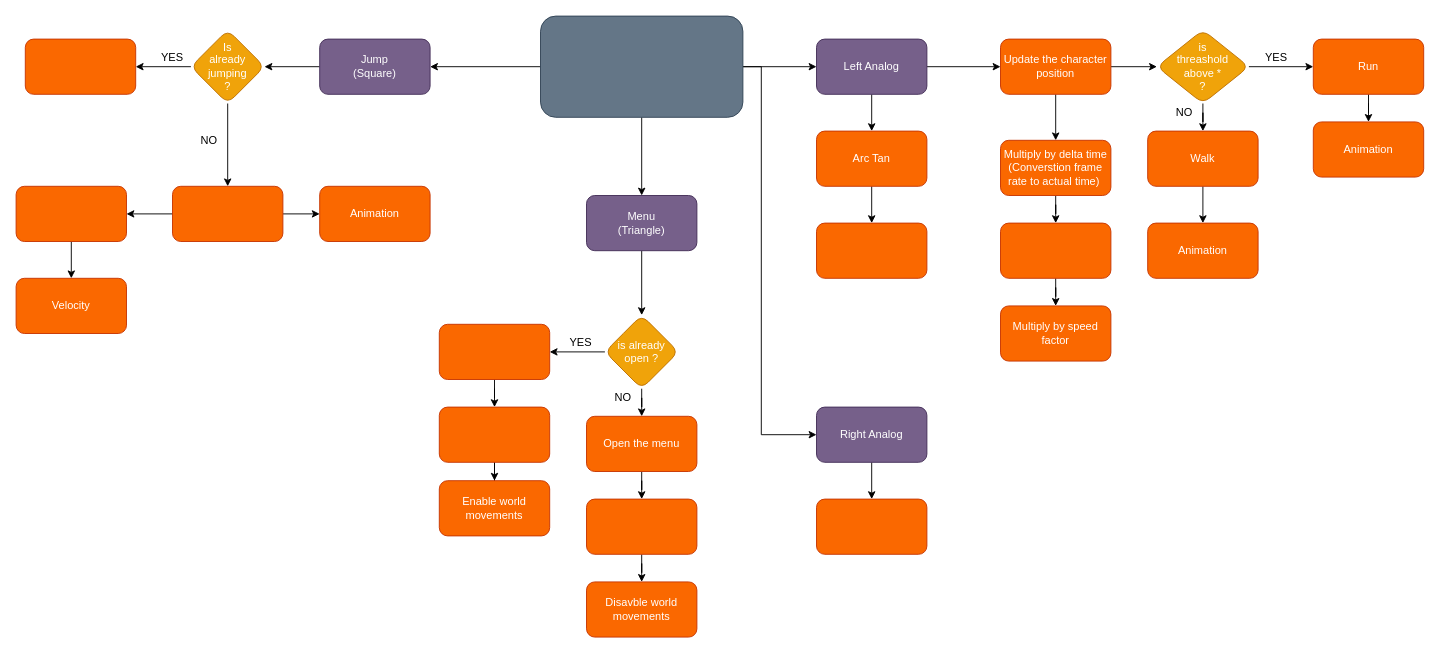
Image size: 1440x653. Some labels were removed from this diagram. The centre of each missing label's shape, as x and y in pixels:
"Camera Rotation" belongs at (871,526).
"Close the menu" belongs at (494,351).
"Do nothing" belongs at (80,66).
"Gravity" belongs at (70,213).
"Joystick Input" belongs at (641,66).
"Make character face the direction desired" belongs at (871,250).
"Multiply by gravity" belongs at (1055,250).
"Pause the game" belongs at (641,526).
"Unpause the game" belongs at (494,434).
"Update character position in Z axis" belongs at (227,213).
